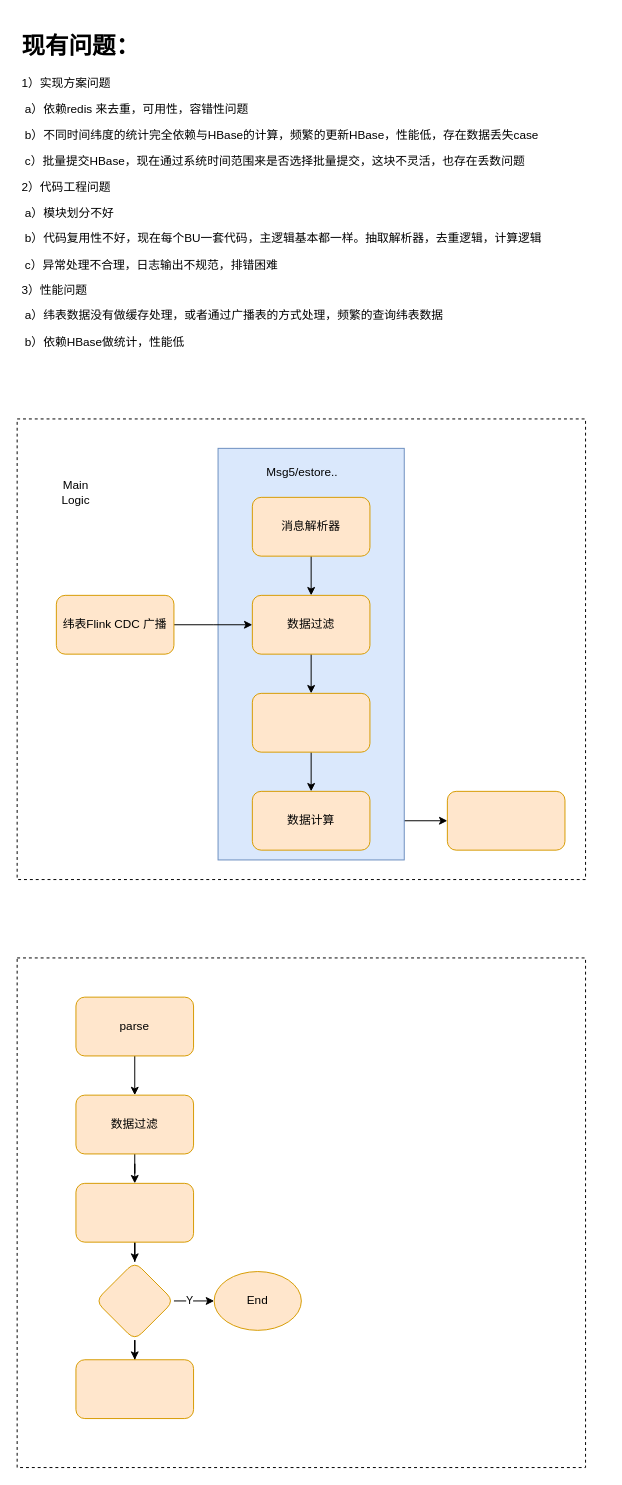
Image size: 622x1485. Some labels were removed from this diagram. Each missing label, with the box of its shape:
keyBy duplication key: (75, 1182, 194, 1242)
state duplicate?: (95, 1261, 174, 1340)
业务去重: (251, 692, 370, 752)
数据入库: (446, 790, 565, 850)
